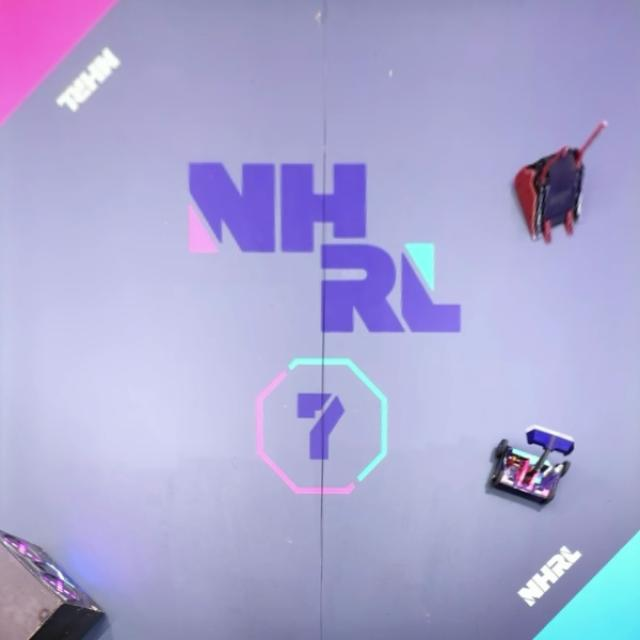housebot: (0, 527, 106, 640)
robot: (513, 119, 609, 245), (486, 425, 576, 507)
